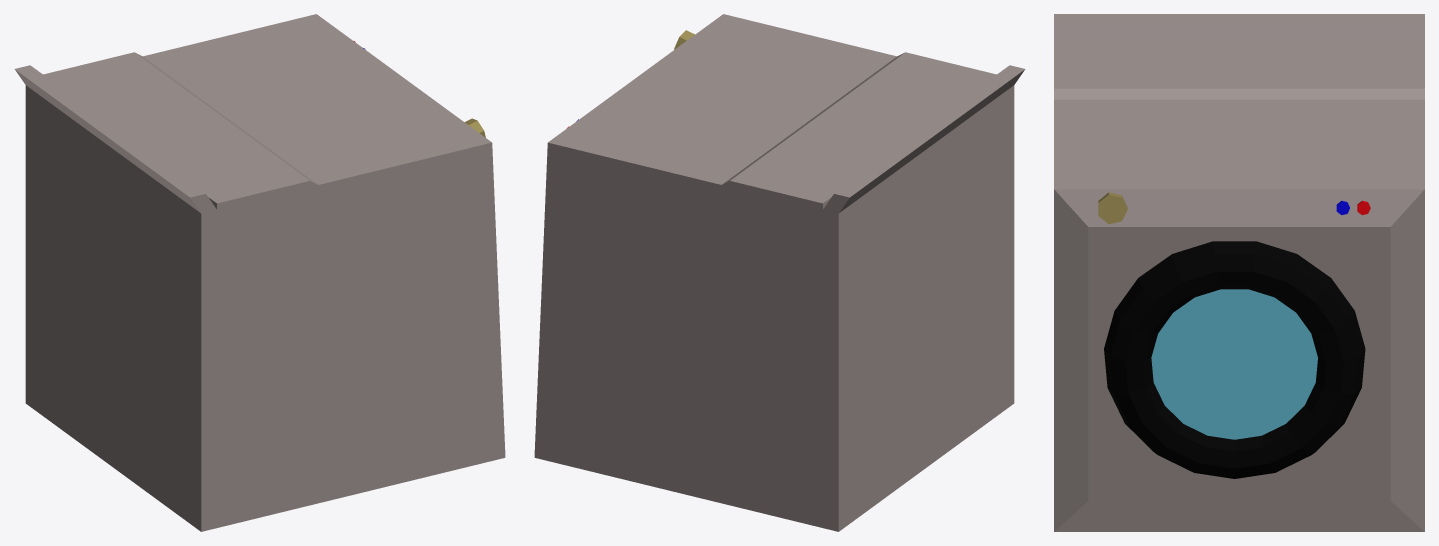
Rendered from washingmachine.fbx.
The picture shows the model from 3 angles, left to right: view 1: azimuth 30°, elevation 25°; view 2: azimuth 150°, elevation 25°; view 3: azimuth 270°, elevation 25°; orthographic projection. The views are drawn at different scales.
Parts seen in each view (by area): view 1: washingmachine; view 2: washingmachine; view 3: washingmachine, Thing, Glass, buttons.
Part boxes in pixels (bbox=[...]): washingmachine: bbox=[14, 14, 505, 531]; washingmachine: bbox=[534, 14, 1025, 531]; washingmachine: bbox=[1054, 14, 1424, 531]; Thing: bbox=[1104, 241, 1365, 478]; Glass: bbox=[1151, 289, 1317, 439]; buttons: bbox=[1098, 192, 1127, 224].
Size of the model in its own units: 398 by 381 by 360.
